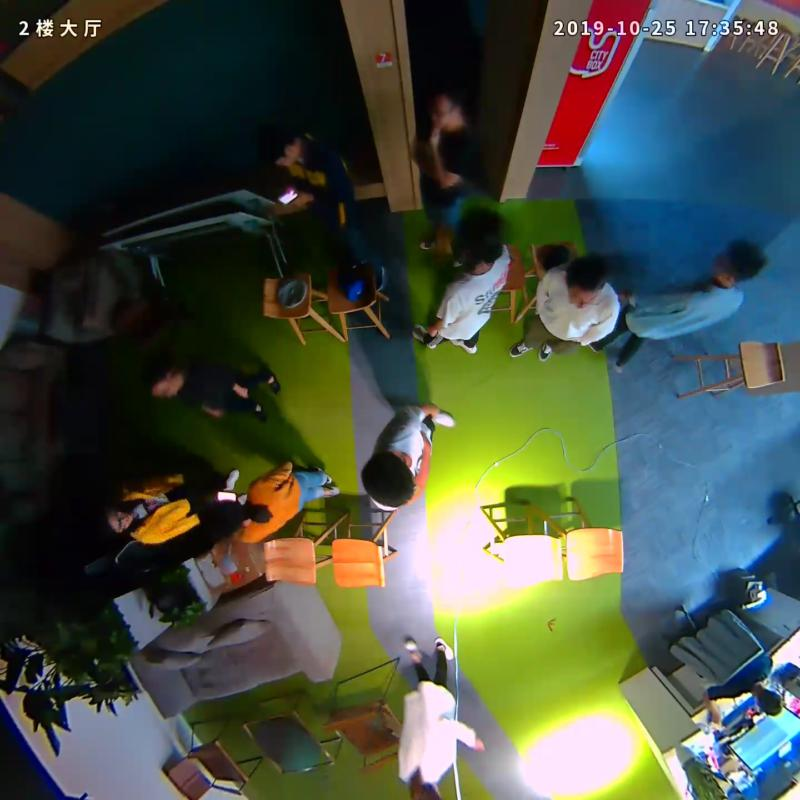head: (443, 208, 505, 277), (709, 232, 774, 290), (357, 450, 419, 508), (132, 347, 189, 405), (557, 255, 614, 311), (193, 495, 249, 547), (251, 119, 309, 167), (420, 83, 472, 131), (85, 497, 132, 544)
